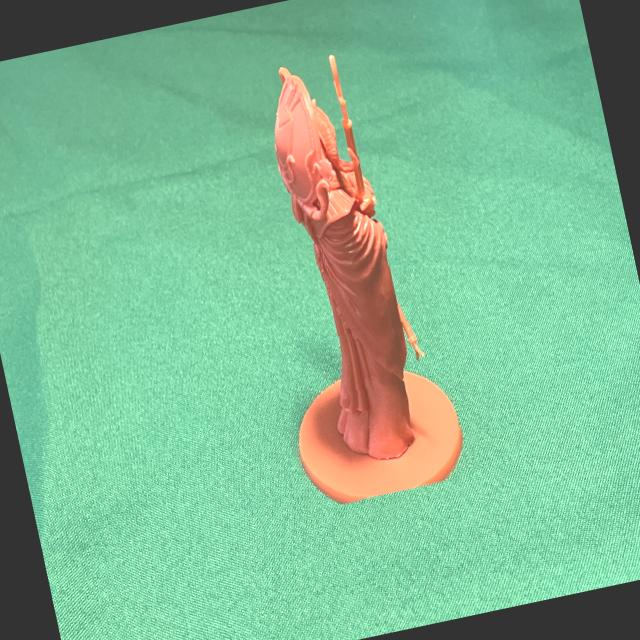amon: (210, 40, 470, 512)
